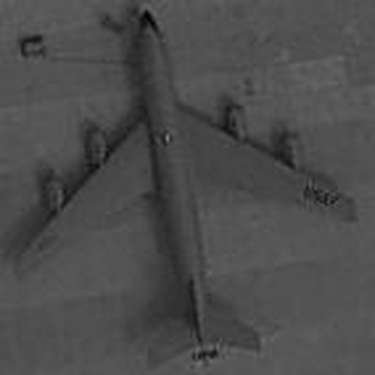airplane: (13, 9, 363, 367)
